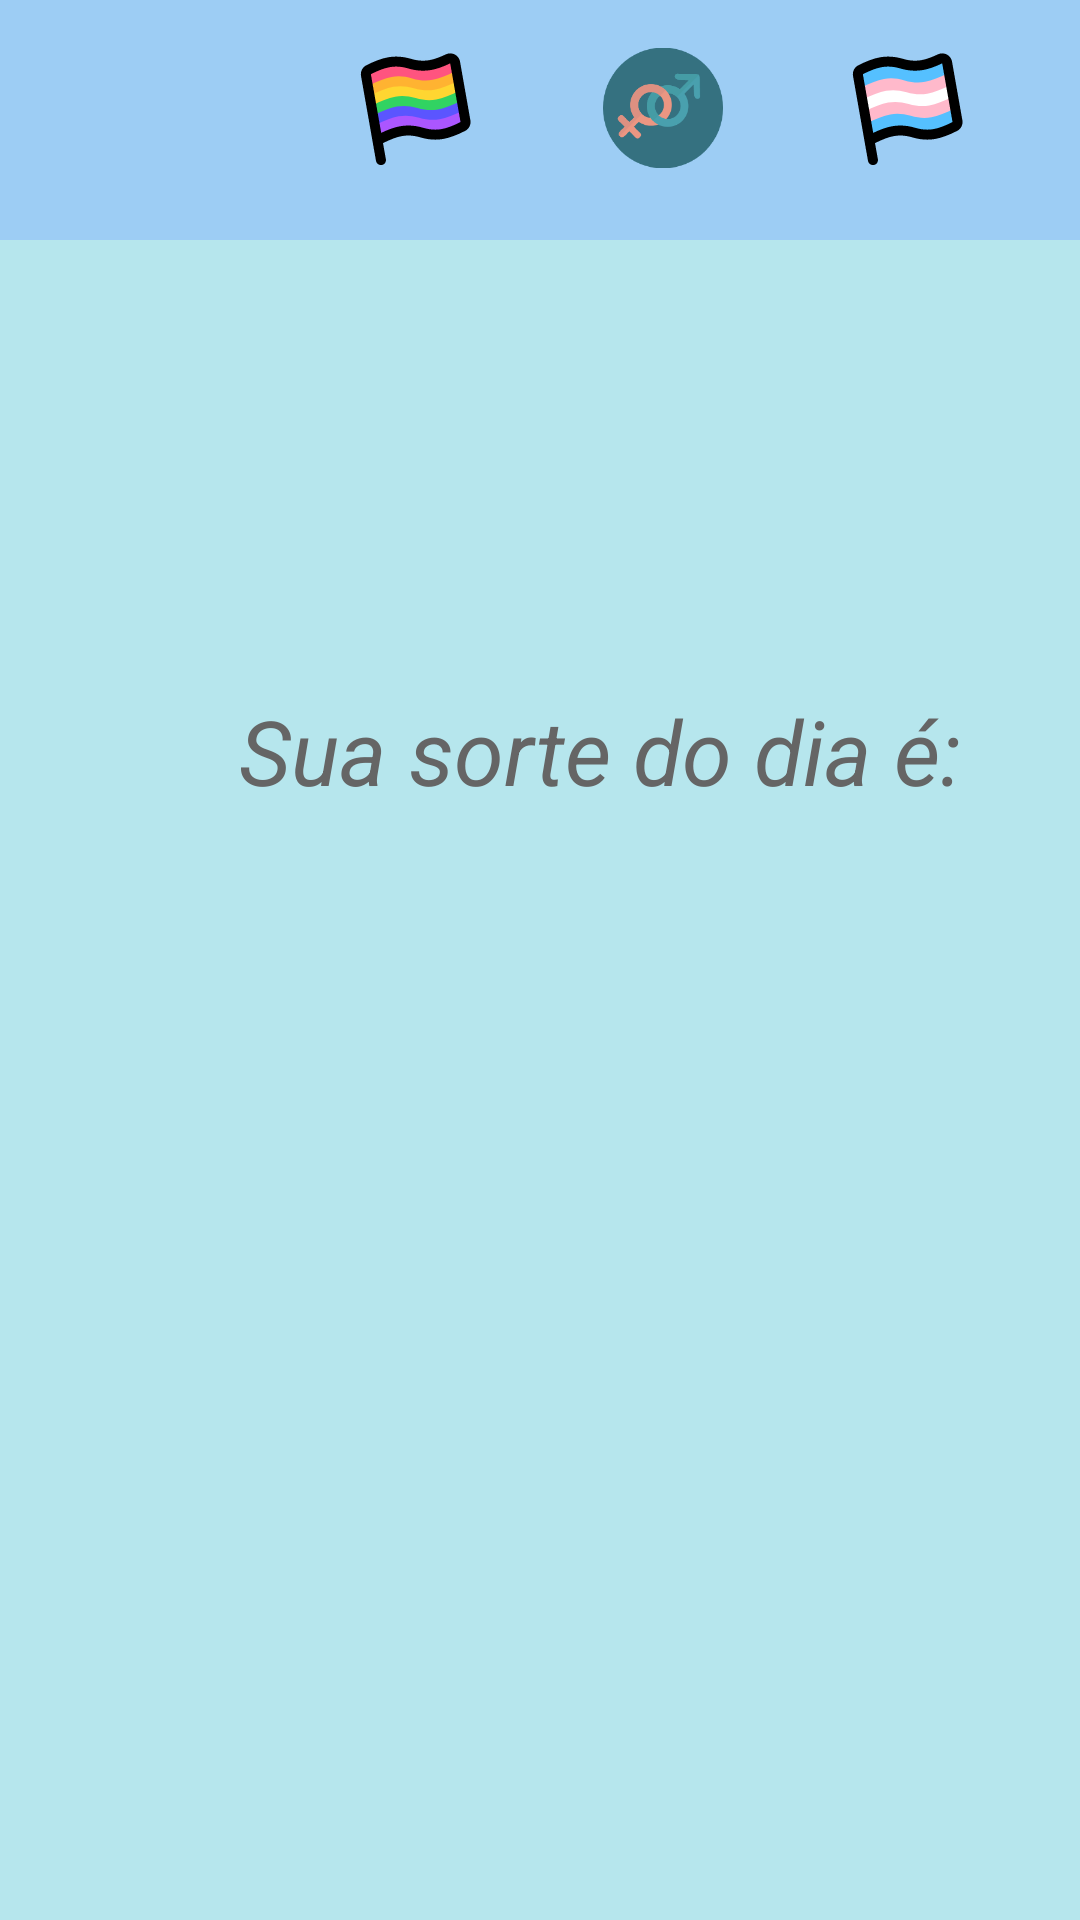

Icons on this 1080 x 1920 Android screen, each with the point to tap as point (x, y):
flagtrans: point (907, 109)
genders: point (663, 108)
lgbtflag: point (415, 109)
